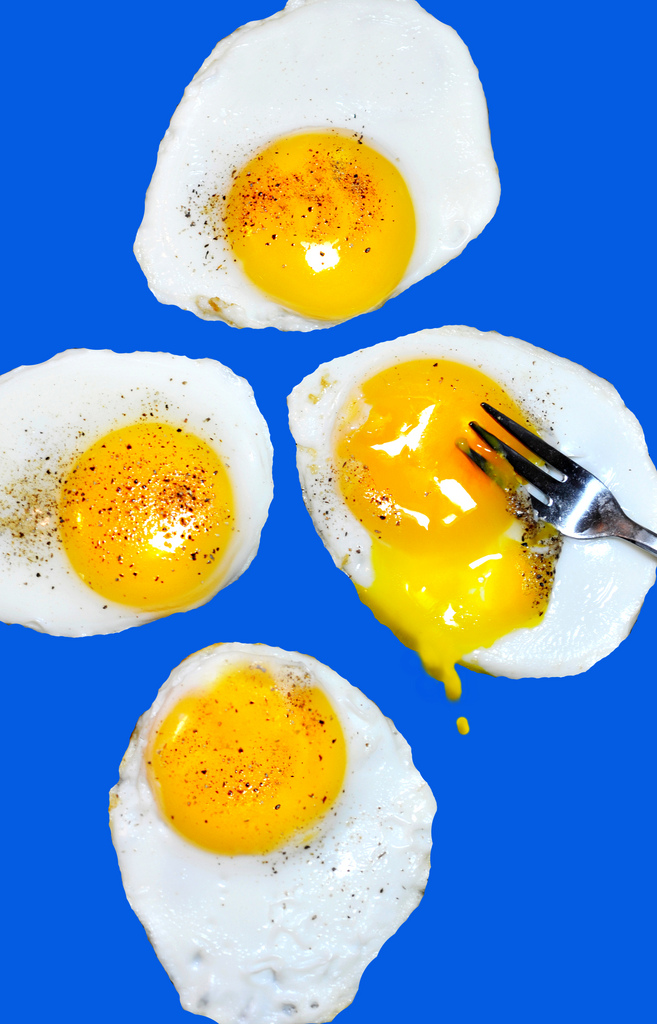fried egg: (106, 641, 430, 1022), (136, 1, 510, 329), (306, 330, 648, 680), (1, 354, 269, 624)
